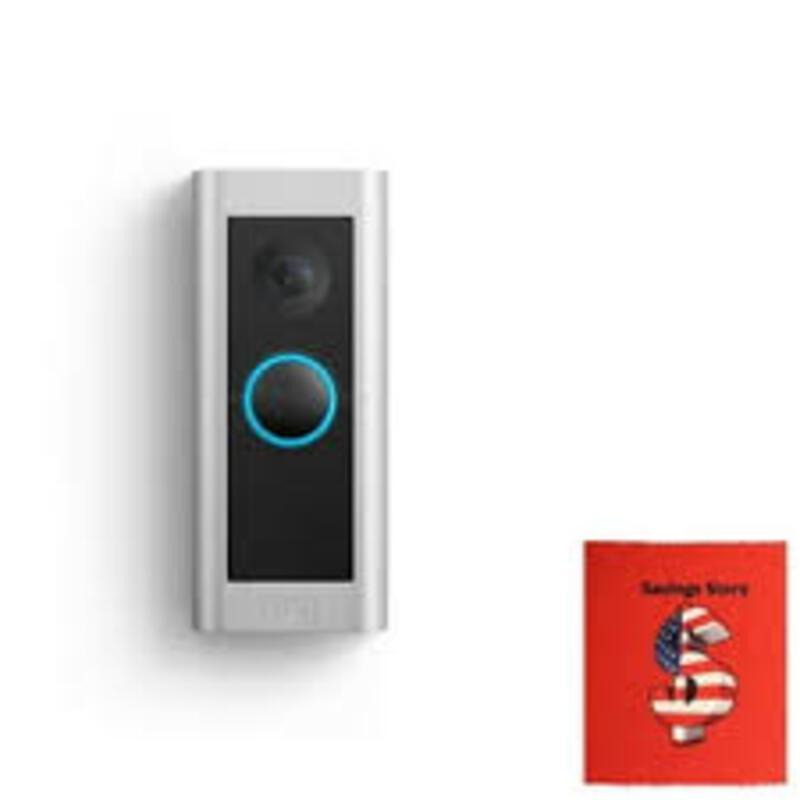doorbell: (185, 164, 396, 648)
